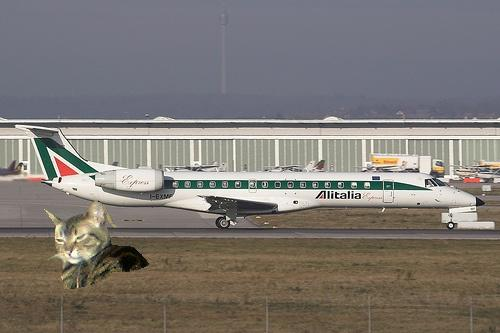tampered: (39, 202, 149, 289)
